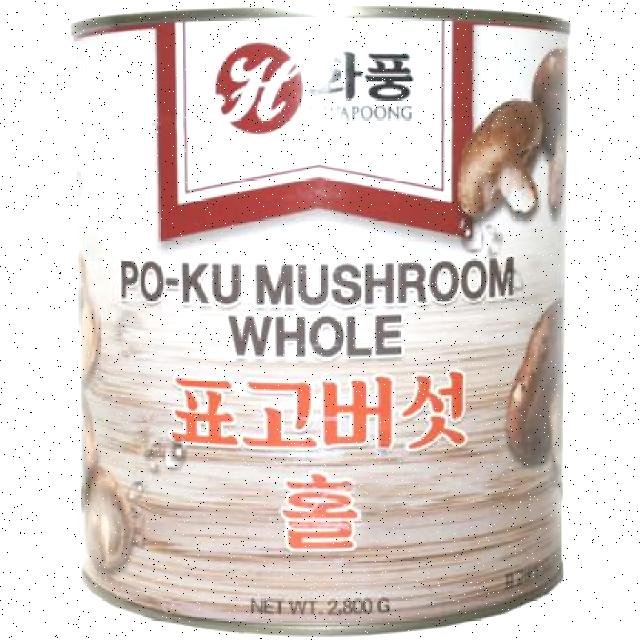Mushroom: (60, 6, 589, 639)
